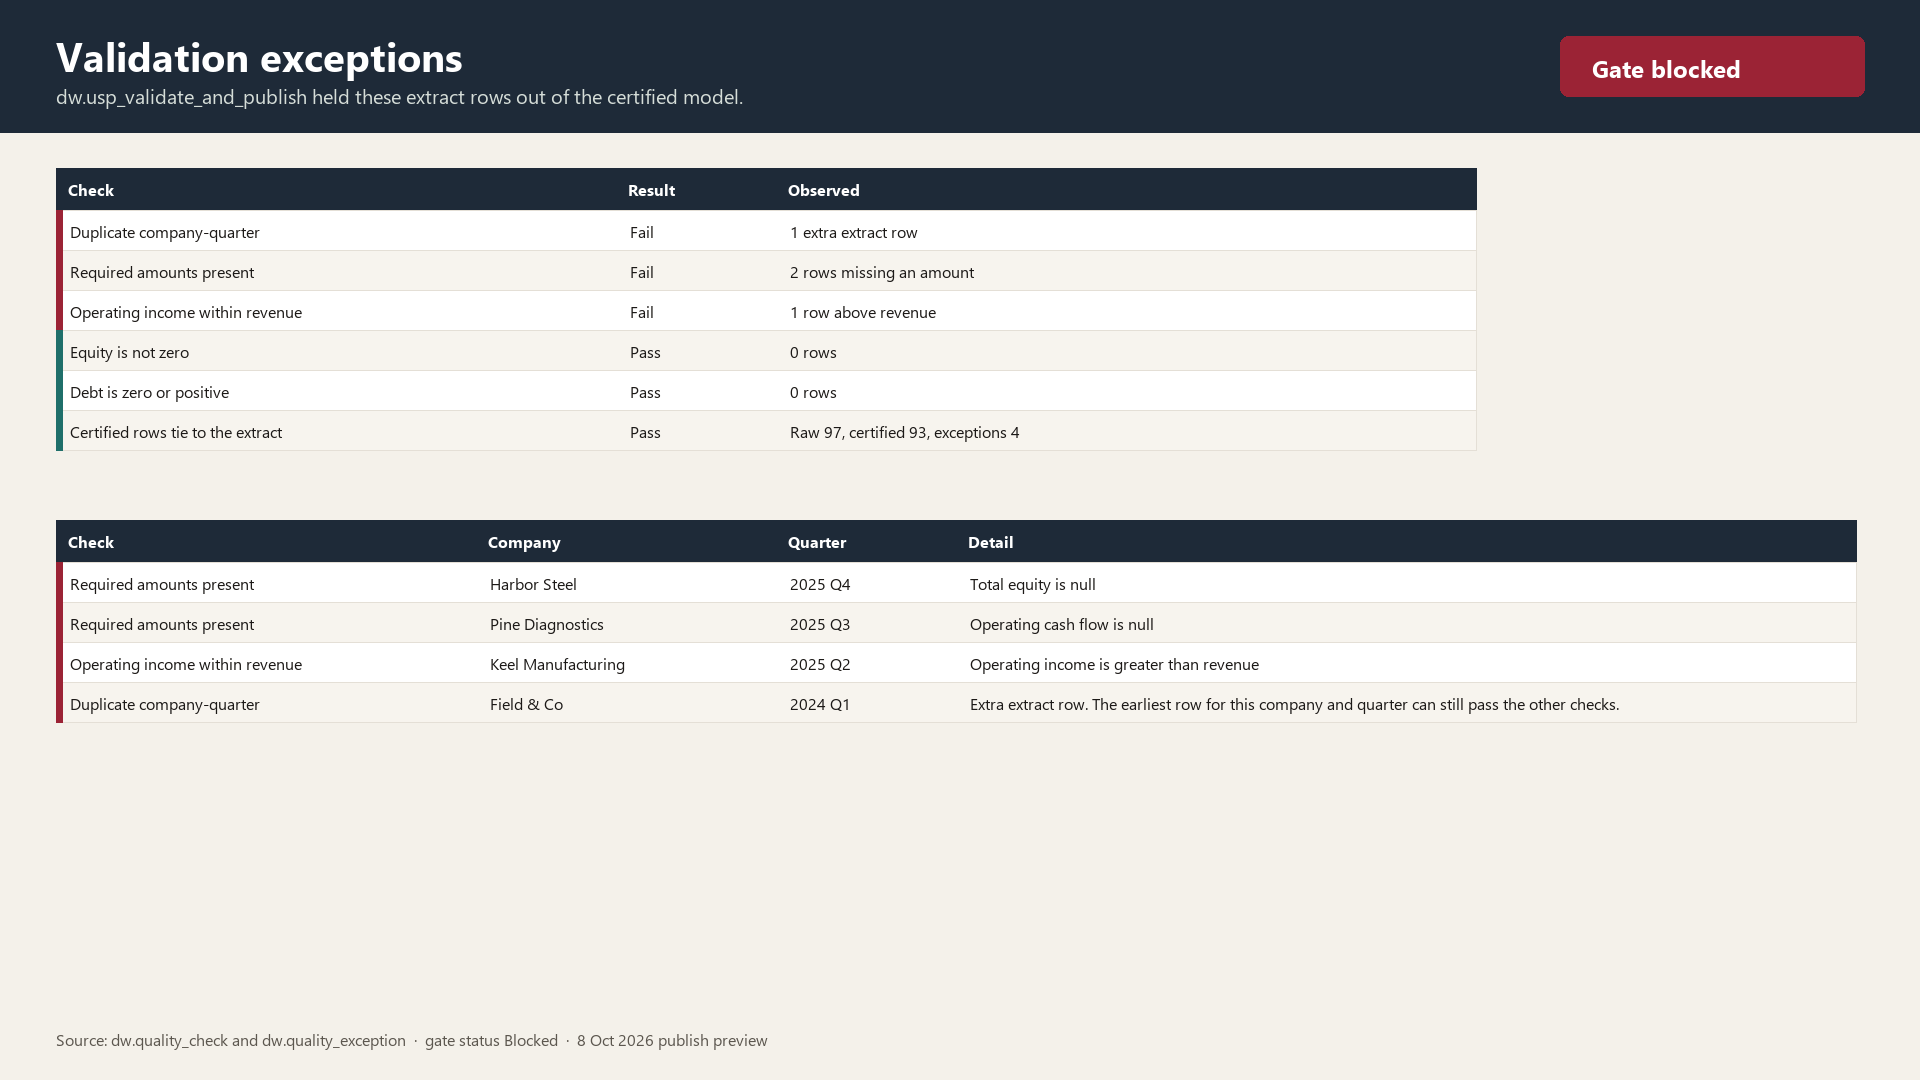

What the dashboard file says about the page in this screenshot:
{"tool":"powerbi","page":{"name":"Validation exceptions","canvas":[1280,720],"ordinal":4},"visuals":[{"type":"tableEx","fields":{"Values":["QualityException.Check","QualityException.Company","QualityException.Quarter","QualityException.Detail"]},"box":[40,30,1200,640],"z":0}]}

Visuals, with their boxes in screenshot pixels (x1, y1, x2, y2), scaled from the page's 1280x720 canvas onto the 1920x1080 screenshot:
tableEx - QualityException.Check x QualityException.Company: select_region(60, 45, 1860, 1005)
